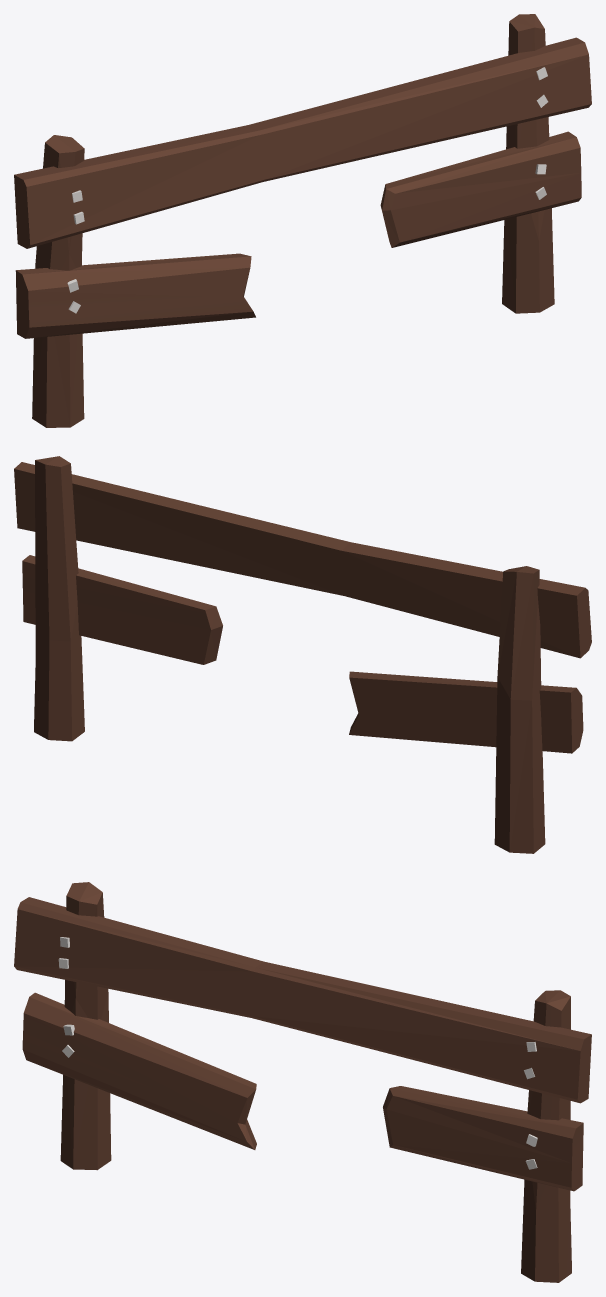
File: Fence_4.fbx
3 views of the same model, one above another, from view 1: azimuth 30°, elevation 25°; view 2: azimuth 150°, elevation 25°; view 3: azimuth 330°, elevation 25° (orthographic).
Visible parts, largest first — view 1: Fence_4; view 2: Fence_4; view 3: Fence_4.
Boxes of the visible parts, x1,y1,x2,y2 form: Fence_4: (14, 14, 591, 427); Fence_4: (14, 456, 591, 853); Fence_4: (14, 882, 591, 1282).
Bounding box in the file's own units: 2.01 × 0.9506 × 0.2088.
